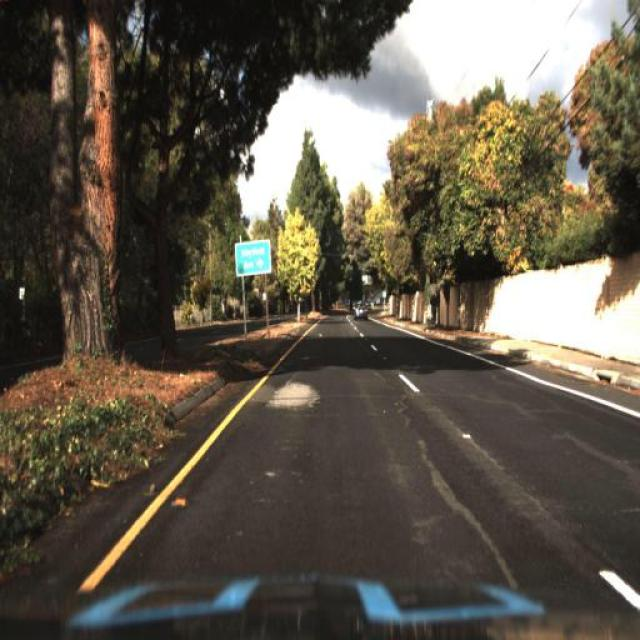car: (354, 302, 368, 322)
trafficLight: (429, 290, 438, 330)
